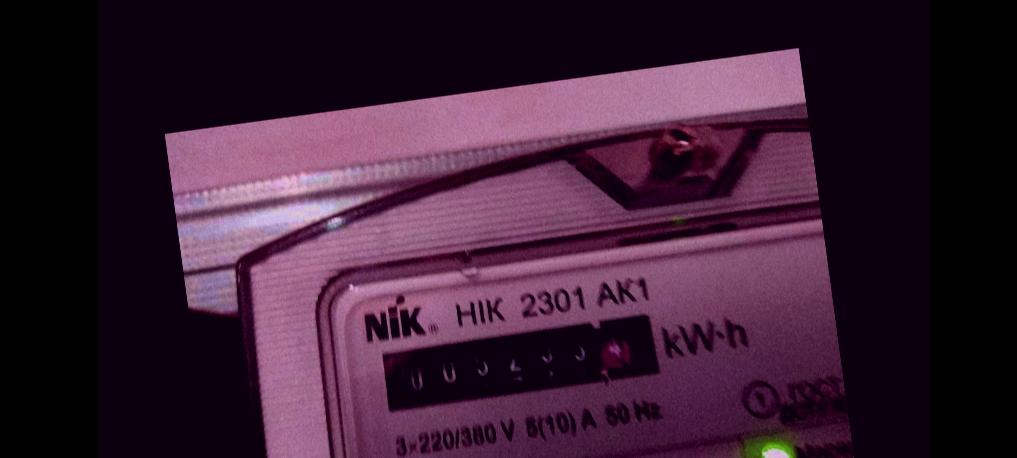0: (437, 352, 462, 388), (406, 361, 428, 394)
2: (502, 340, 528, 377)
3: (534, 333, 562, 369)
4: (602, 324, 629, 363)
5: (567, 328, 594, 367), (471, 346, 494, 381)
screen: (364, 299, 675, 426)
